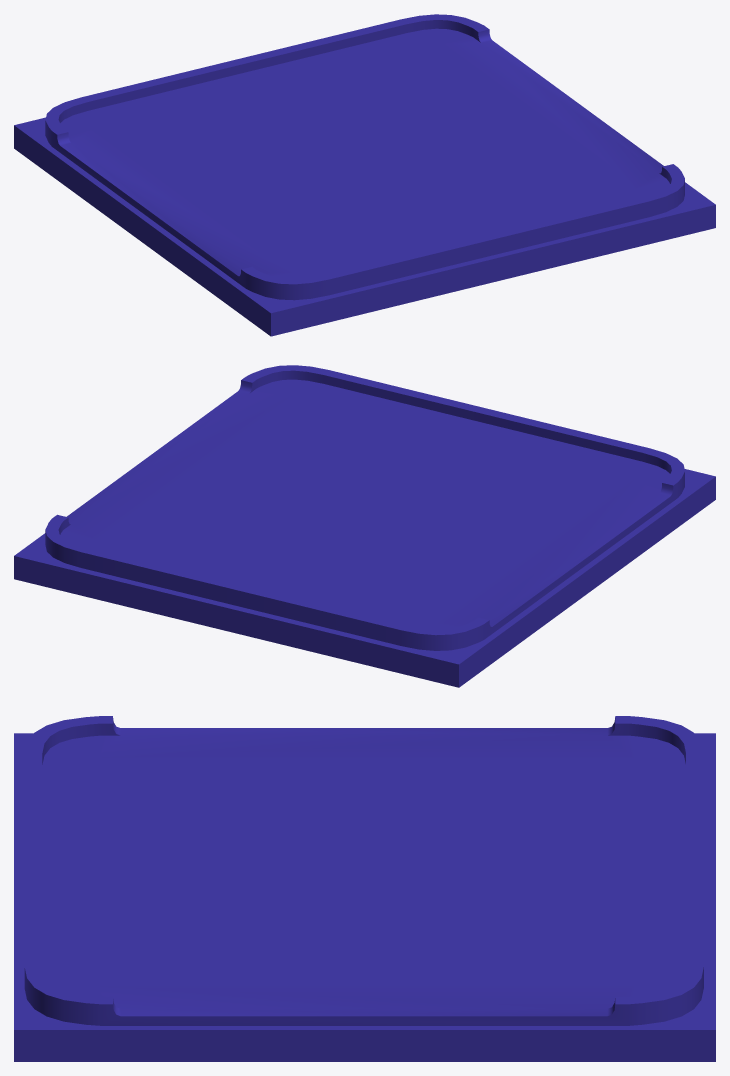
File: Floor_N_A.FBX
The picture shows the model from 3 angles, top to bottom: view 1: azimuth 30°, elevation 25°; view 2: azimuth 150°, elevation 25°; view 3: azimuth 270°, elevation 25°; orthographic projection. The views are drawn at different scales.
Visible parts, largest first — view 1: Floor_N_A; view 2: Floor_N_A; view 3: Floor_N_A.
Boxes of the visible parts, <box> form: Floor_N_A: <box>14,14,715,336</box>; Floor_N_A: <box>14,365,715,687</box>; Floor_N_A: <box>14,716,715,1061</box>.
Bounding box in the file's own units: 200 × 16.79 × 200.
